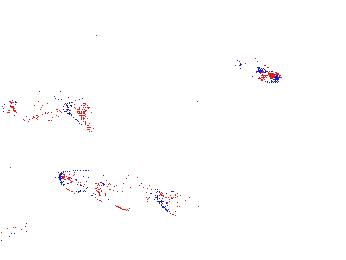red belly glassfish: (236, 57, 283, 86)
redtail glassfish: (56, 167, 177, 217), (1, 87, 92, 129)
